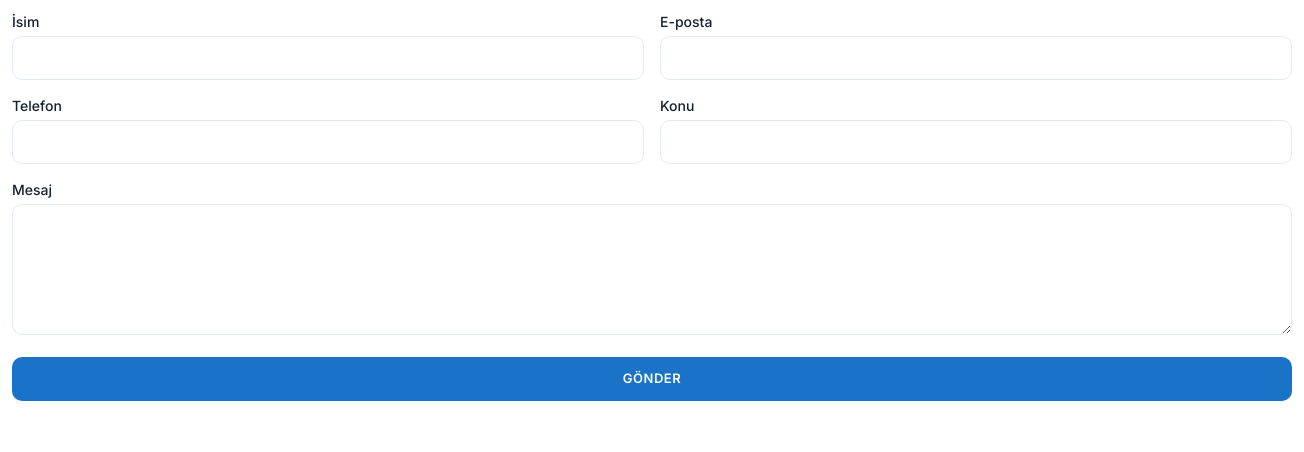
Test: ContactForm › geçerli veriyle gönderilince başarı mesajı gösterir
In the field labelled "İsim": (328, 58) [12,36,644,80], type "Ayşe Yılmaz"
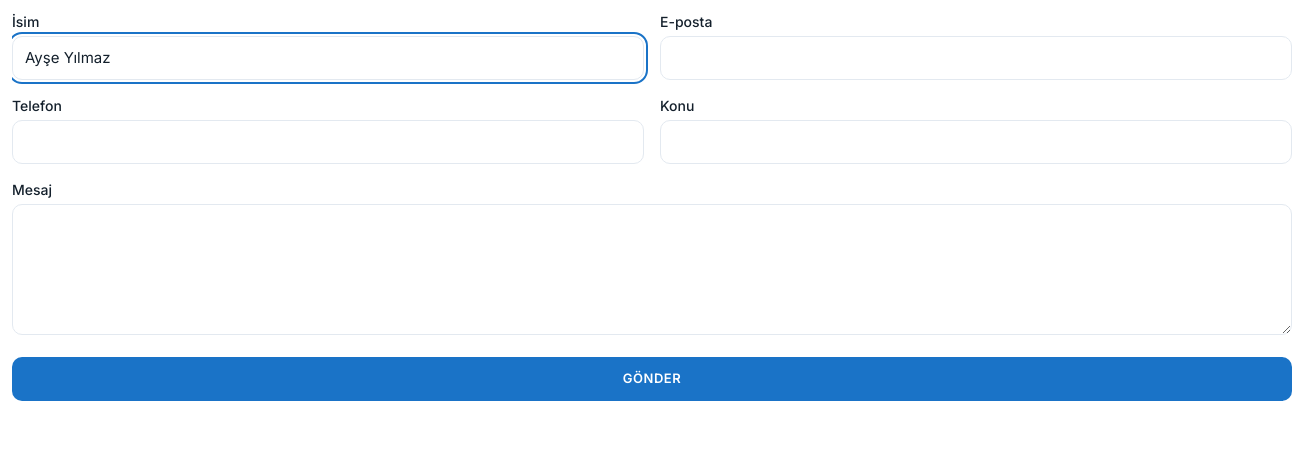
In the field labelled "E-posta": (976, 58) [660,36,1292,80], type "ayse@example.com"
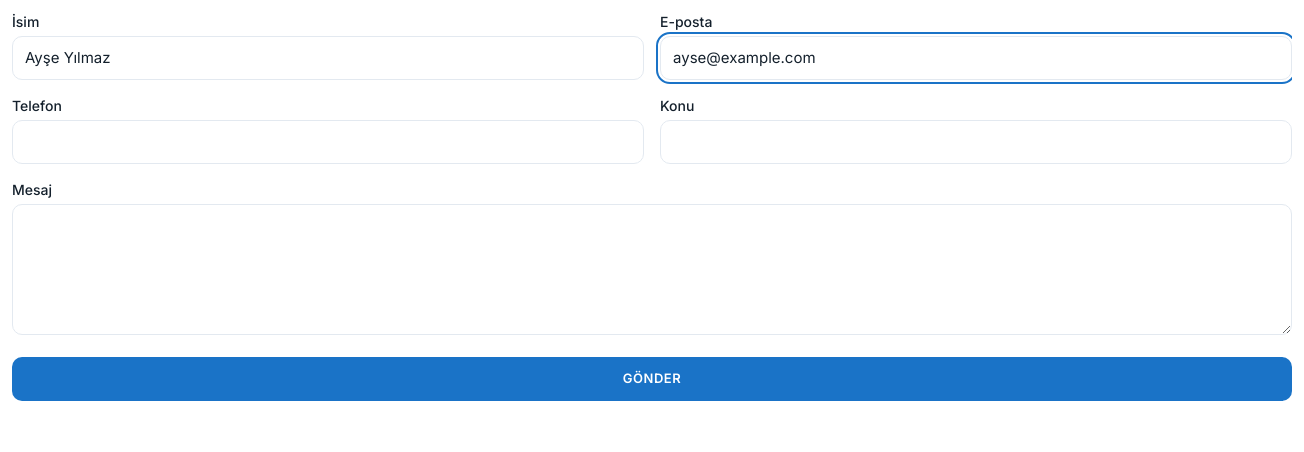
In the field labelled "Telefon": (328, 142) [12,120,644,164], type "05551234567"
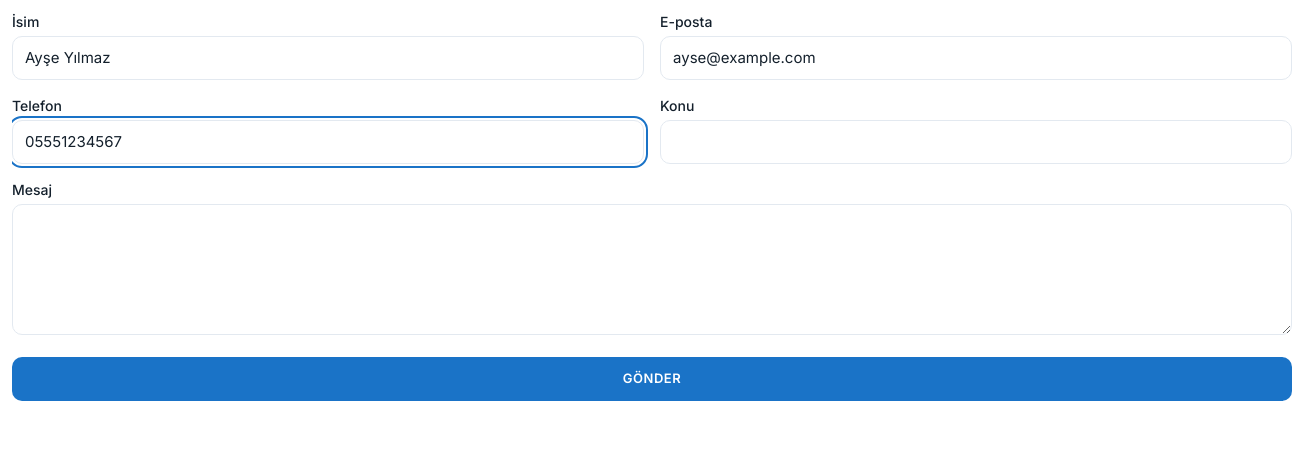
In the field labelled "Konu": (976, 142) [660,120,1292,164], type "Bilgi Talebi"
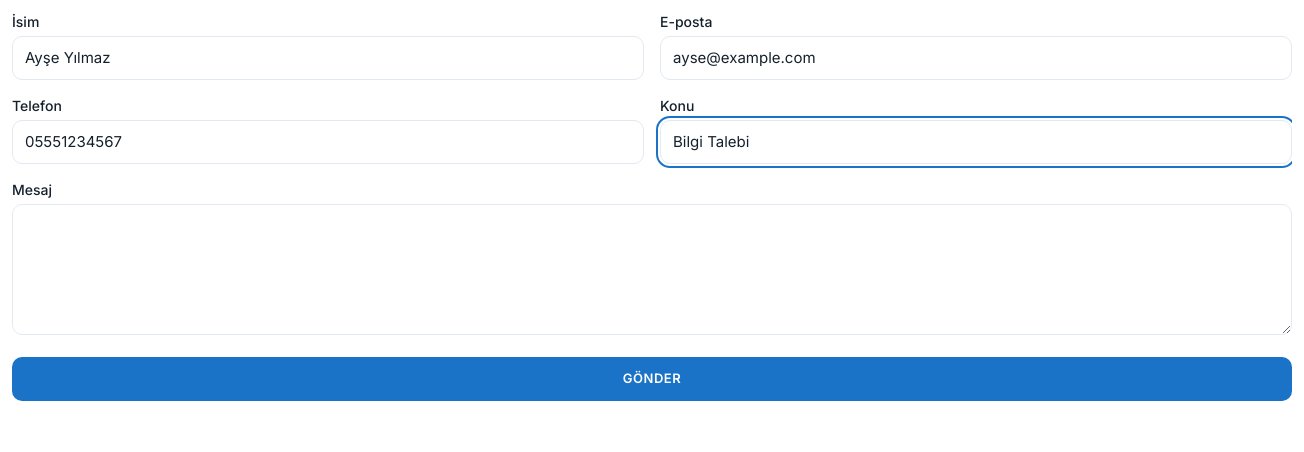
In the text box labelled "Mesaj": (652, 269) [12,204,1292,334], type "Merhaba, menünüz hakkında bilgi almak istiyorum."
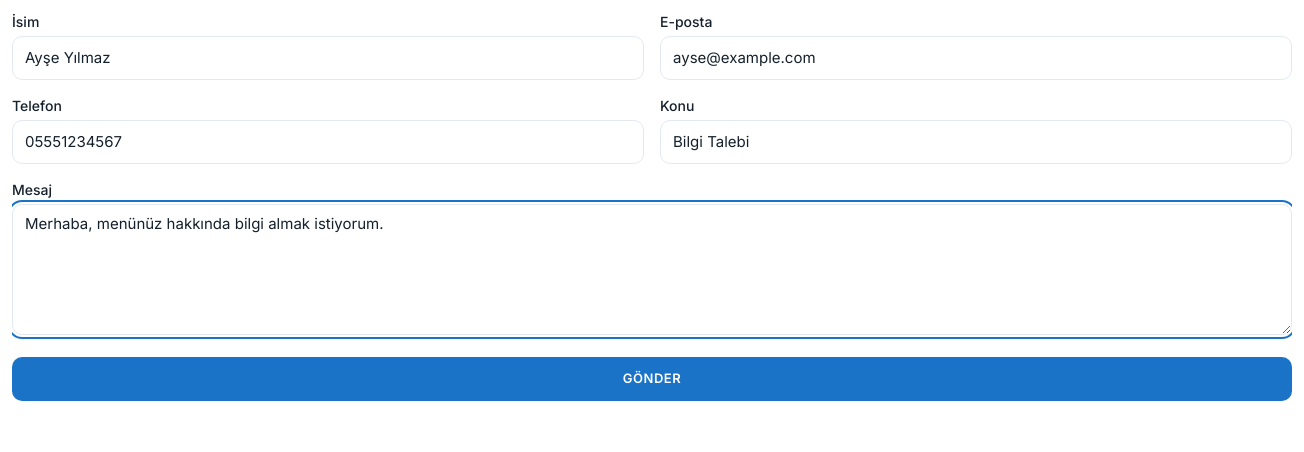
Click the button "Gönder": (652, 378) [12,356,1292,400]
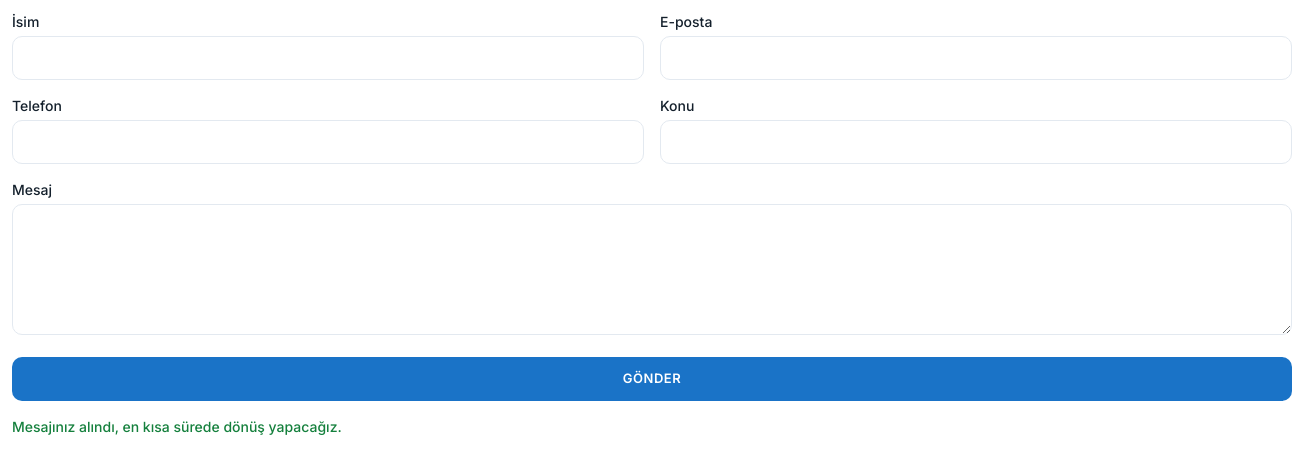
Result: the text "Mesajınız alındı, en kısa sürede dönüş yapacağız." is shown at [12,418,342,434]
